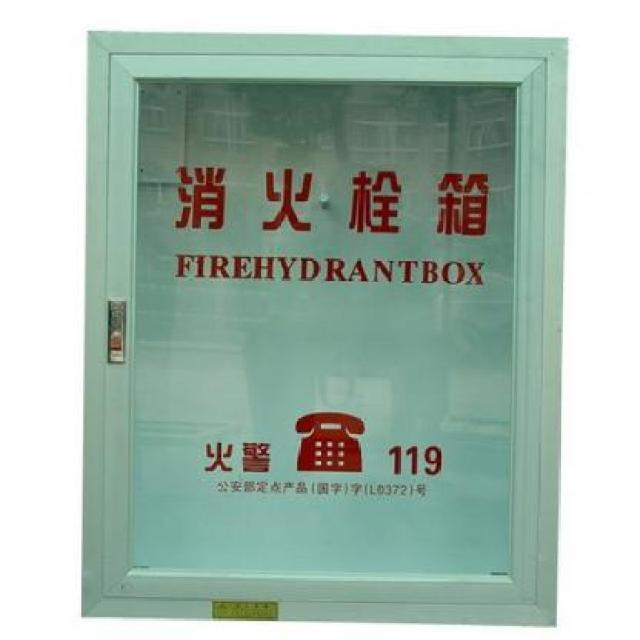firehydrant: (77, 23, 575, 635)
